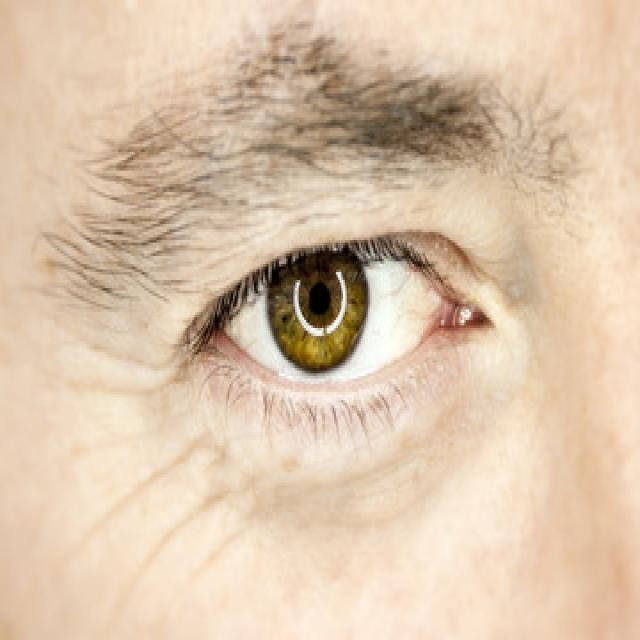Normal: (106, 205, 588, 516)
